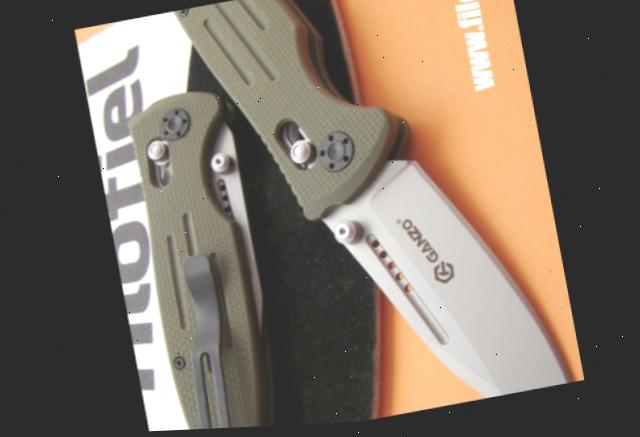pocket-knife: (159, 0, 581, 431)
